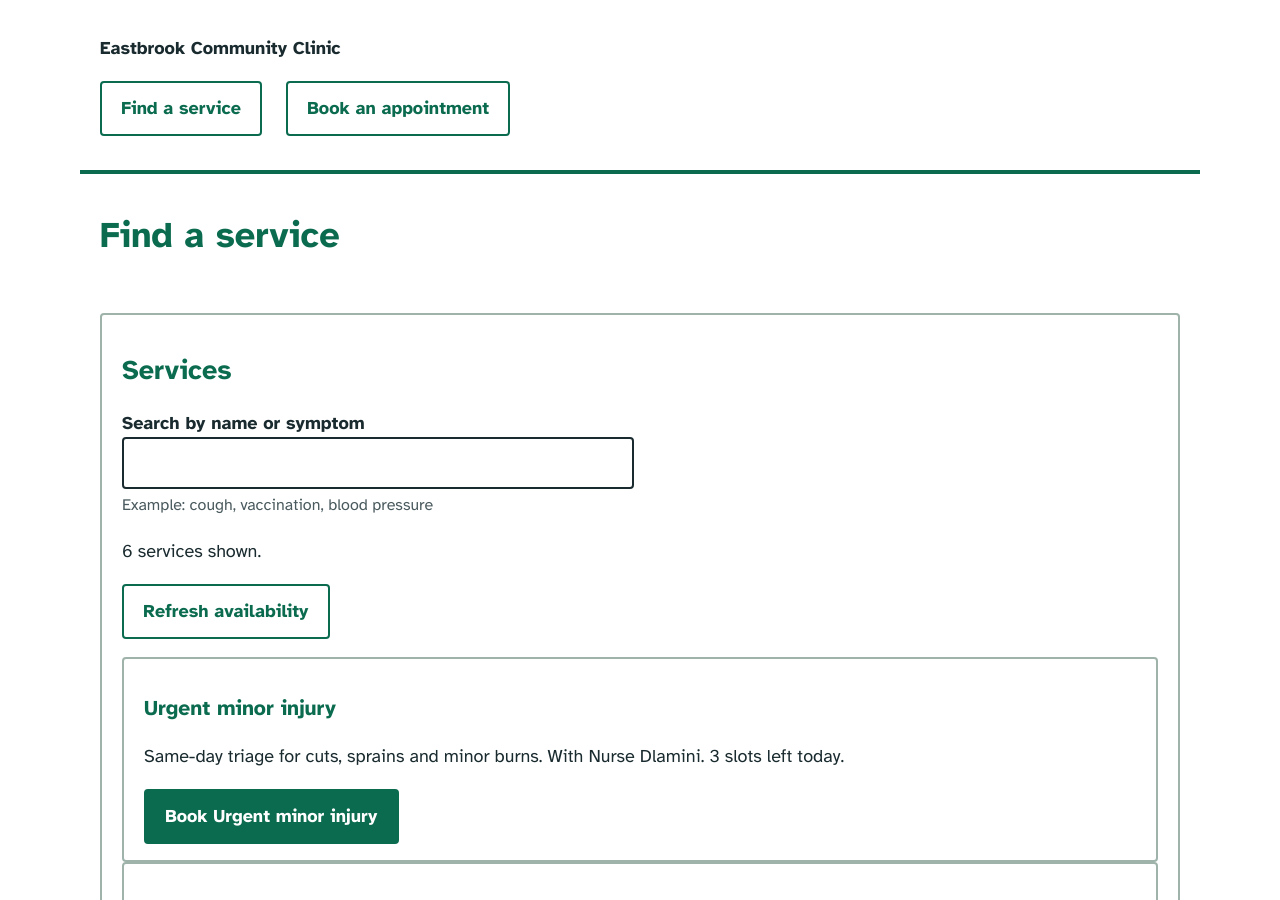
directory › no matches shows a helpful message and a count of 0
In the search field labelled "Search by name or symptom": (378, 463) left=122, top=437, right=634, bottom=489, type "zzz"
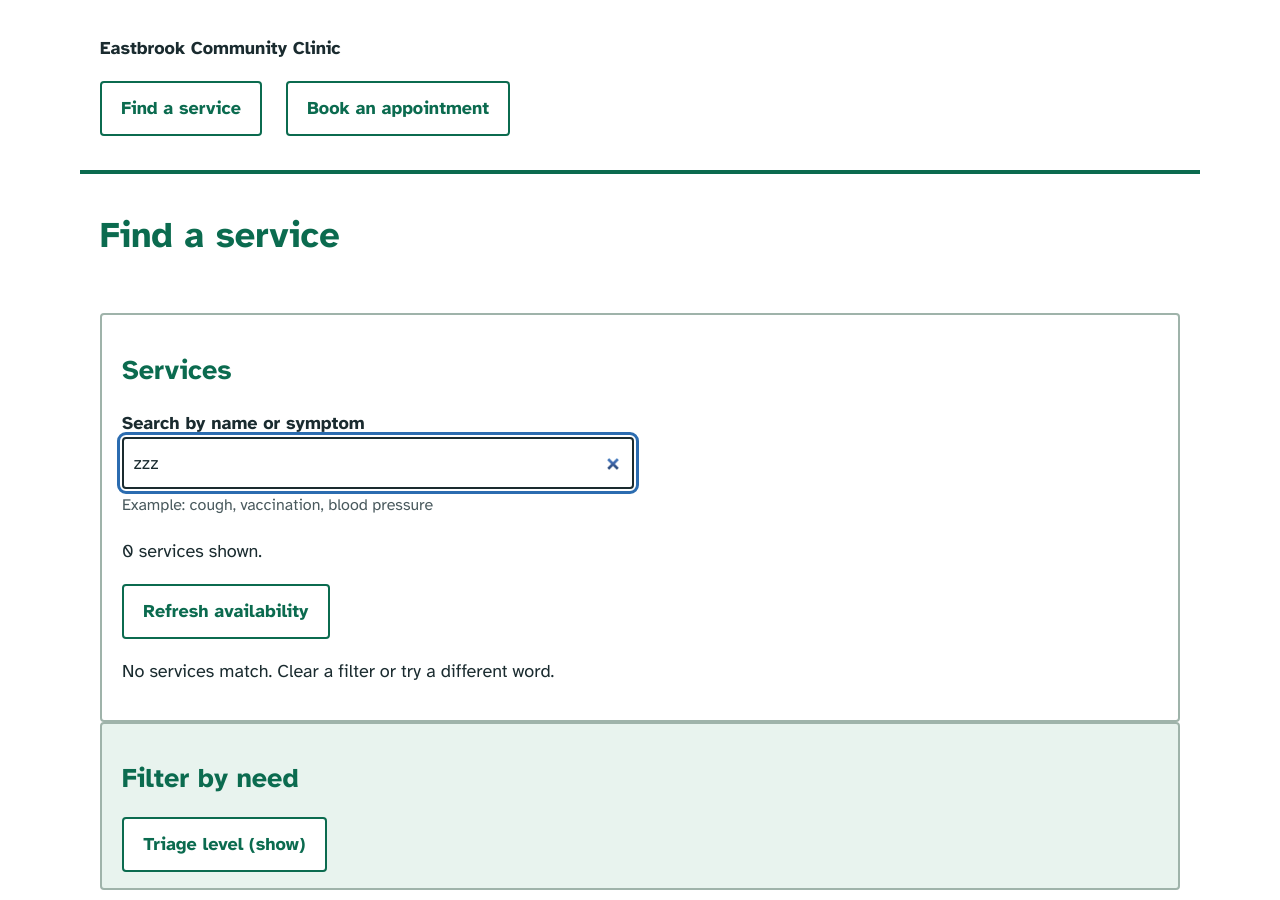
Check: the message shows "0 services shown", box left=122, top=540, right=262, bottom=562
Check: the text "No services match. Clear a filter or try a different word." is shown, box left=122, top=660, right=554, bottom=682
